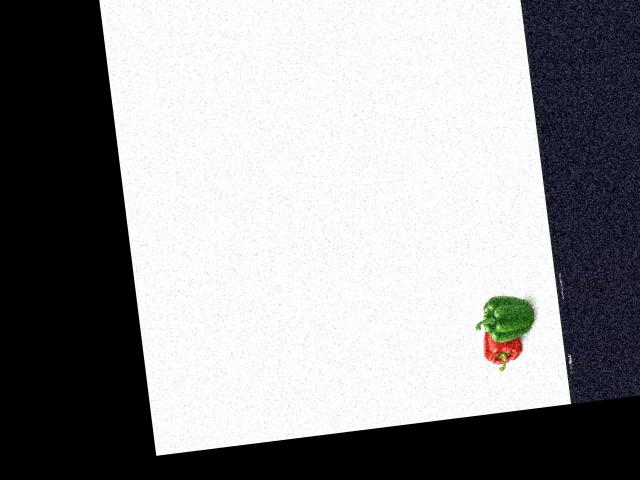bell_pepper: (476, 325, 523, 373)
